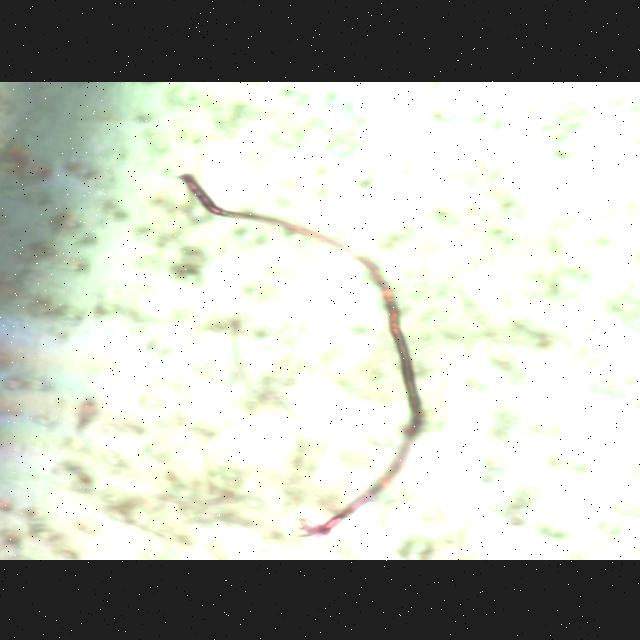Fibre: (176, 172, 430, 538)
